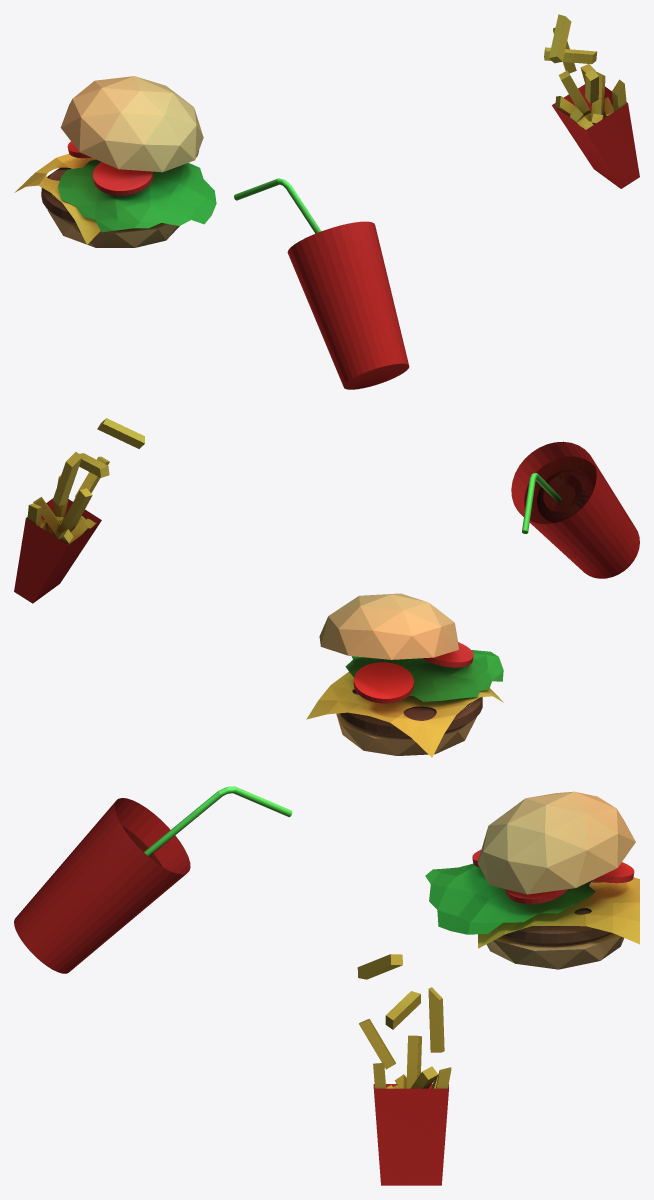
The picture shows the model from 3 angles, top to bottom: view 1: azimuth 30°, elevation 25°; view 2: azimuth 150°, elevation 25°; view 3: azimuth 270°, elevation 25°; orthographic projection. The views are drawn at different scales.
Parts seen in each view (by area): view 1: broodje - bovenkant; view 2: broodje - bovenkant; view 3: broodje - bovenkant.
Part boxes in pixels (x1=…): broodje - bovenkant: x1=14, y1=14, x2=639, y2=389; broodje - bovenkant: x1=14, y1=418, x2=639, y2=757; broodje - bovenkant: x1=14, y1=786, x2=639, y2=1185.
Bounding box in the file's own units: 82.49 × 28.07 × 78.92.
8 materials, 8 textured.
